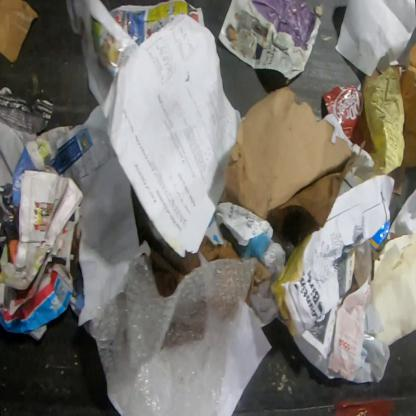cardboard: (218, 85, 357, 245), (322, 84, 371, 152), (0, 0, 40, 65), (400, 42, 416, 169), (371, 233, 399, 283), (246, 257, 272, 308), (199, 236, 242, 262), (387, 166, 406, 196), (342, 274, 358, 299)
rigid_plastic: (352, 302, 390, 384), (292, 334, 343, 380)
soft_plastic: (86, 253, 259, 415), (348, 237, 372, 290), (335, 398, 397, 415), (370, 219, 392, 251)
